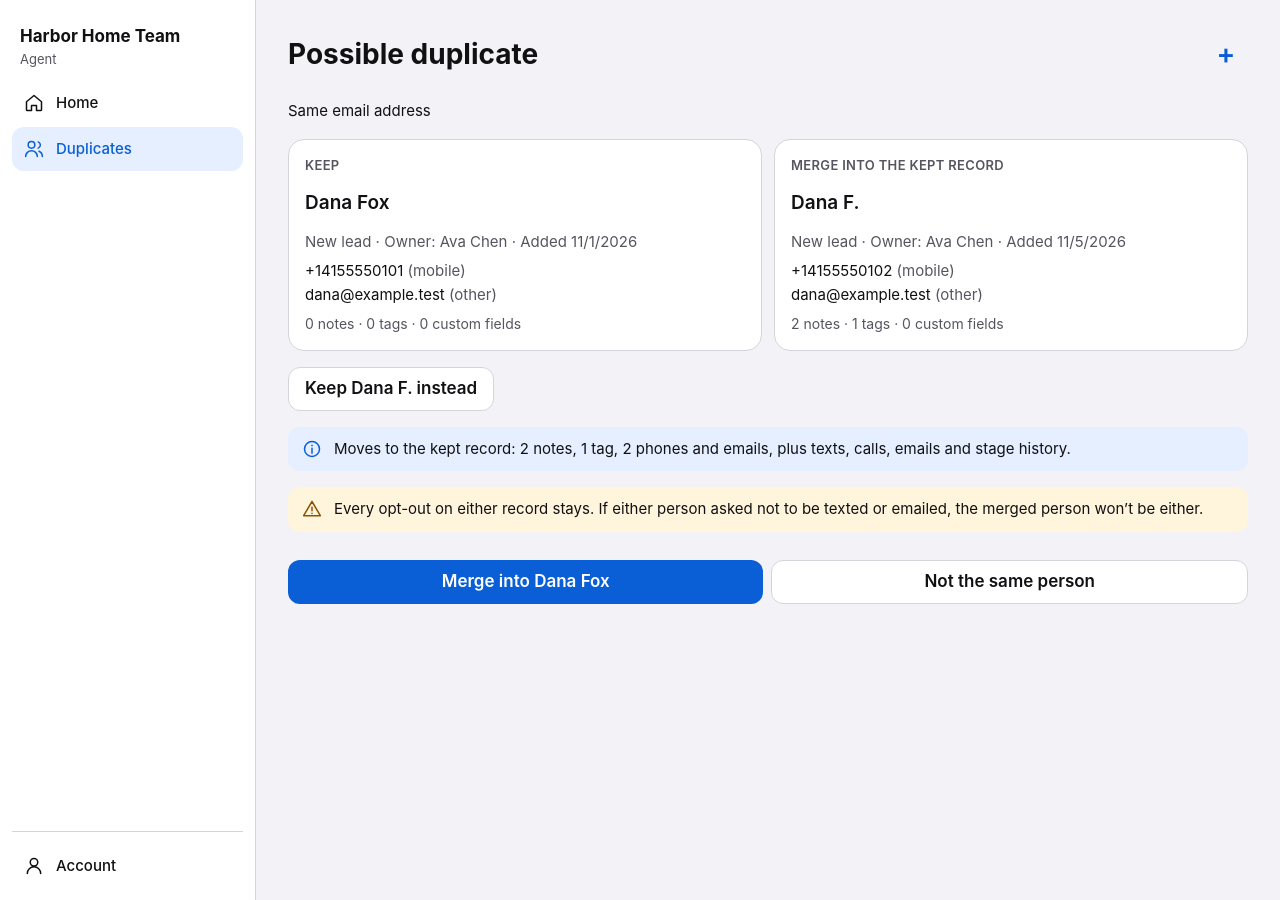
Test: duplicates pages › an engine refusal (the pair changed) is a sentence, never a code
Click the button "Merge into Dana Fox". click: (526,582)
box: [288, 560, 764, 604]
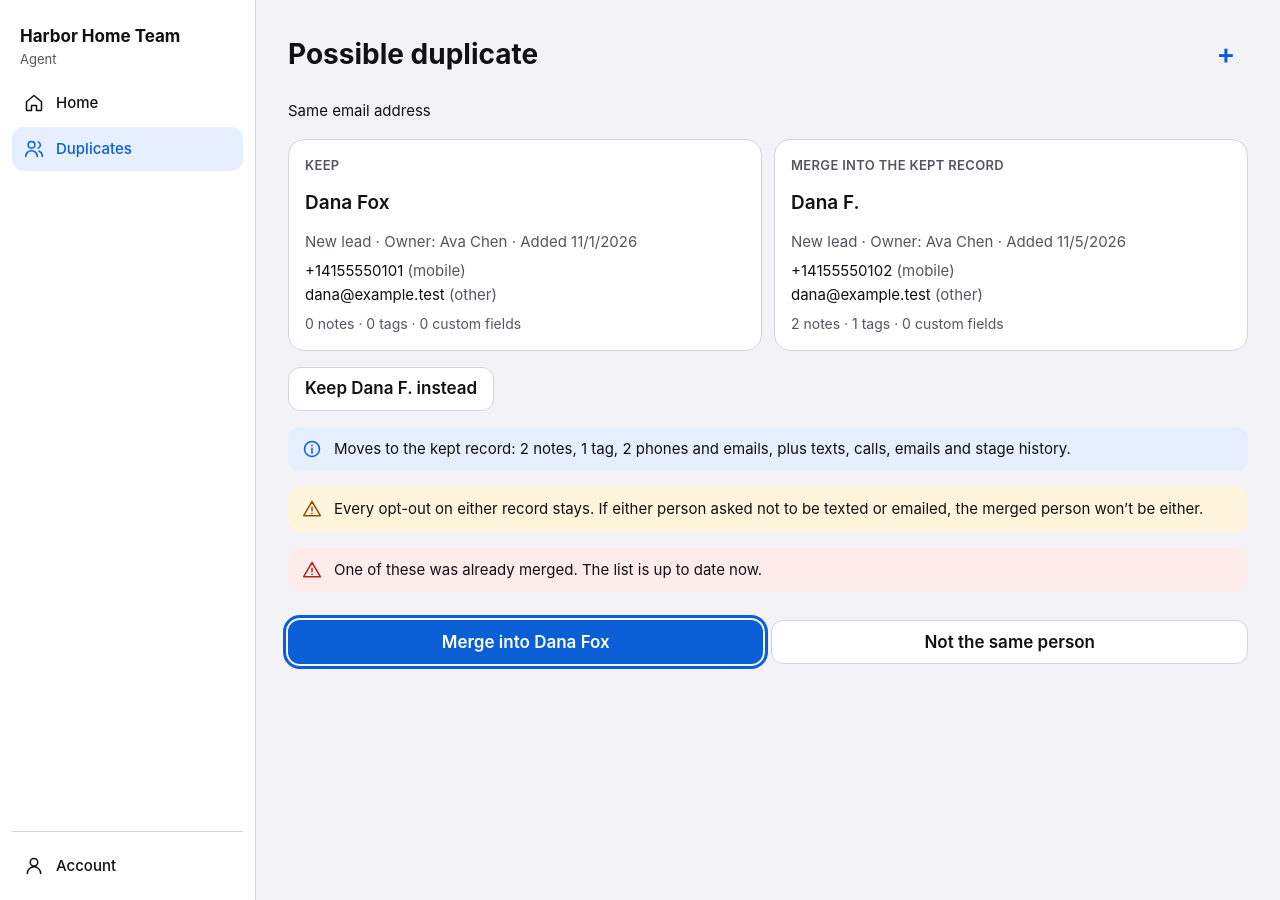
Expected: the text "One of these was already merged. The list is up to date now." is shown, [334, 560, 762, 579]
